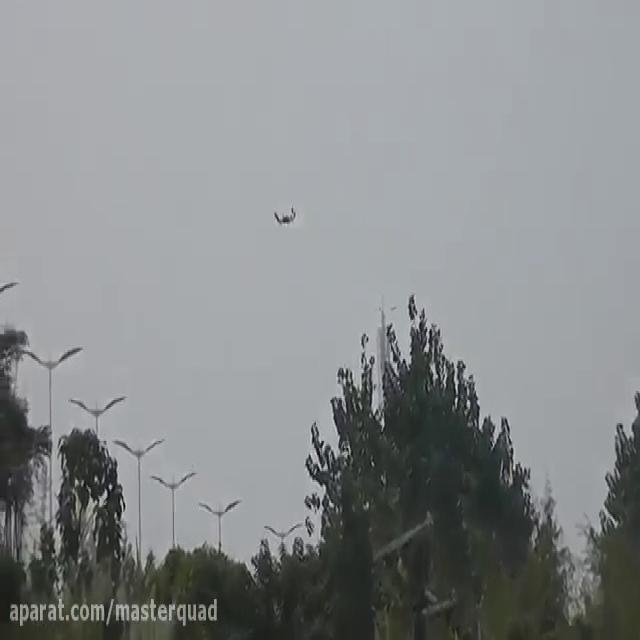drone: (271, 198, 301, 230)
